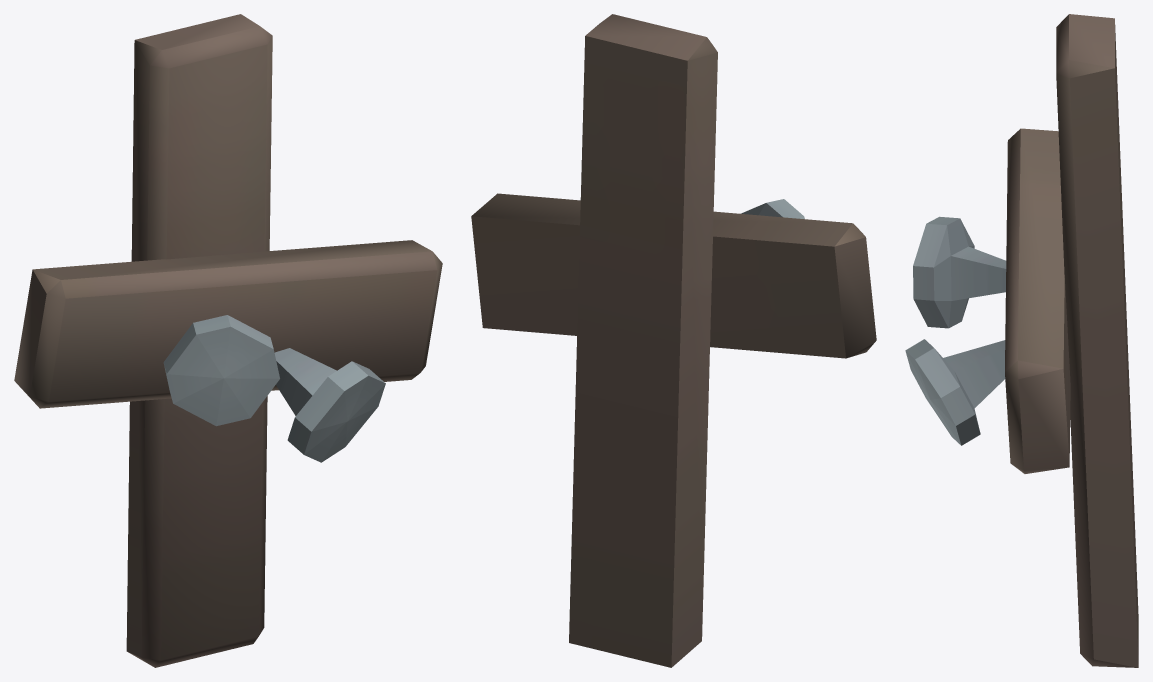
The model's file is gravemarker_b.glb.
3 renders of one model, left to right at view 1: azimuth 30°, elevation 25°; view 2: azimuth 150°, elevation 25°; view 3: azimuth 270°, elevation 25°, orthographic. The views are drawn at different scales.
Visible parts, largest first — view 1: gravemarker_B; view 2: gravemarker_B; view 3: gravemarker_B.
Part boxes in pixels (left/top/right/bottom): gravemarker_B: left=14, top=14, right=442, bottom=667; gravemarker_B: left=471, top=14, right=876, bottom=667; gravemarker_B: left=905, top=14, right=1138, bottom=667.
Size of the model in its own units: 0.8028 by 1.18 by 0.4131.
Materials: 1 (1 with a texture image).
